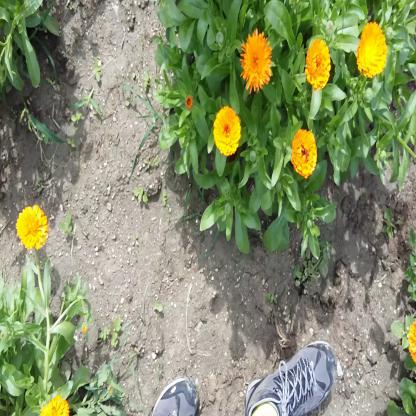marigold: (241, 33, 273, 93), (357, 23, 385, 78), (16, 206, 46, 251), (214, 106, 241, 152), (292, 128, 316, 174), (307, 40, 331, 86)
